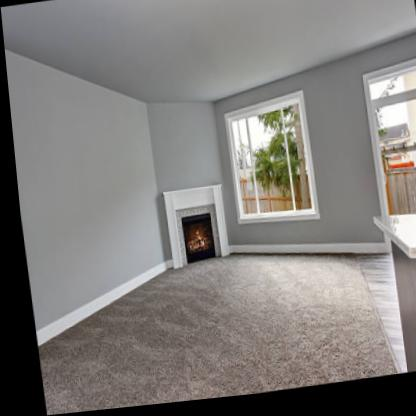Window: (223, 96, 316, 229)
